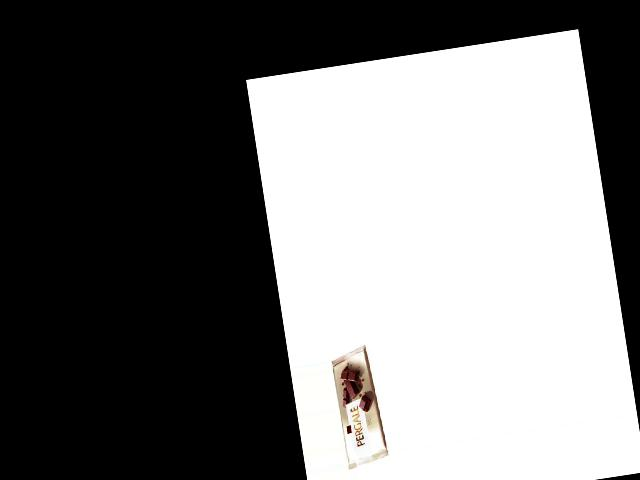chocolate: (329, 342, 388, 471)
